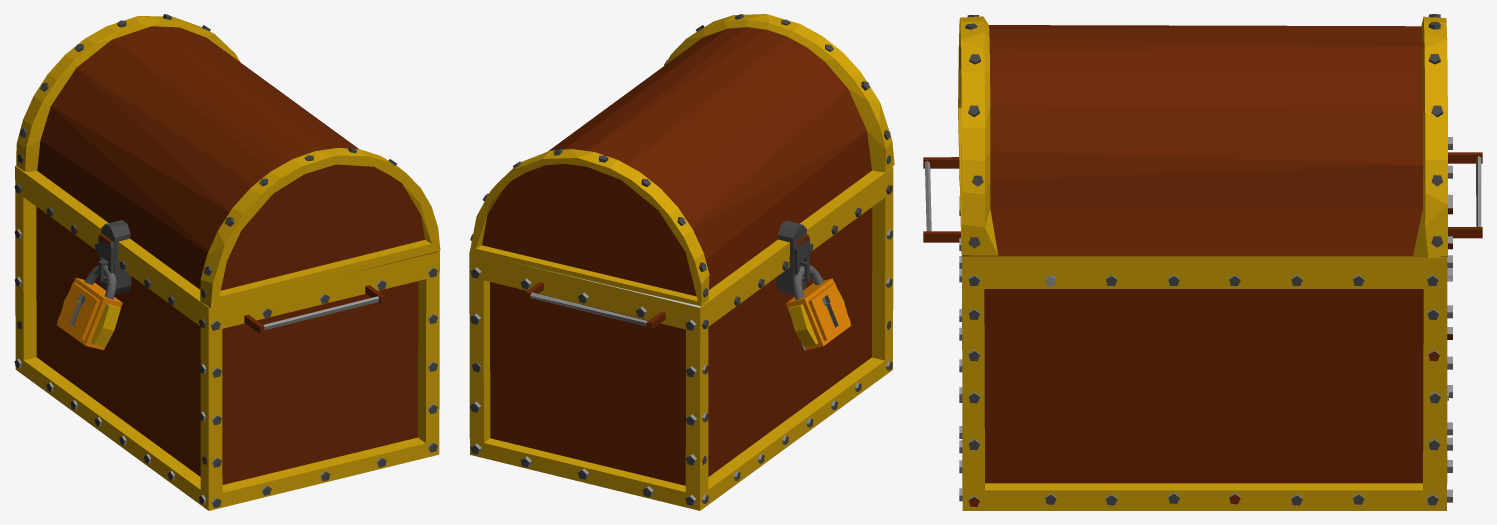
File: OrangeChestAndLock.fbx
The picture shows the model from 3 angles, left to right: view 1: azimuth 30°, elevation 25°; view 2: azimuth 150°, elevation 25°; view 3: azimuth 270°, elevation 25°; orthographic projection. The views are drawn at different scales.
Visible parts, largest first — view 1: Cube.001, Cube; view 2: Cube.001, Cube; view 3: Cube.001.
Boxes of the visible parts, box(x1,y1,x2,y2) form: Cube.001: box(14, 14, 440, 510); Cube: box(56, 265, 122, 350); Cube.001: box(469, 14, 894, 510); Cube: box(785, 265, 851, 350); Cube.001: box(923, 14, 1482, 510).
Bounding box in the file's own units: 239 × 270 × 334.
